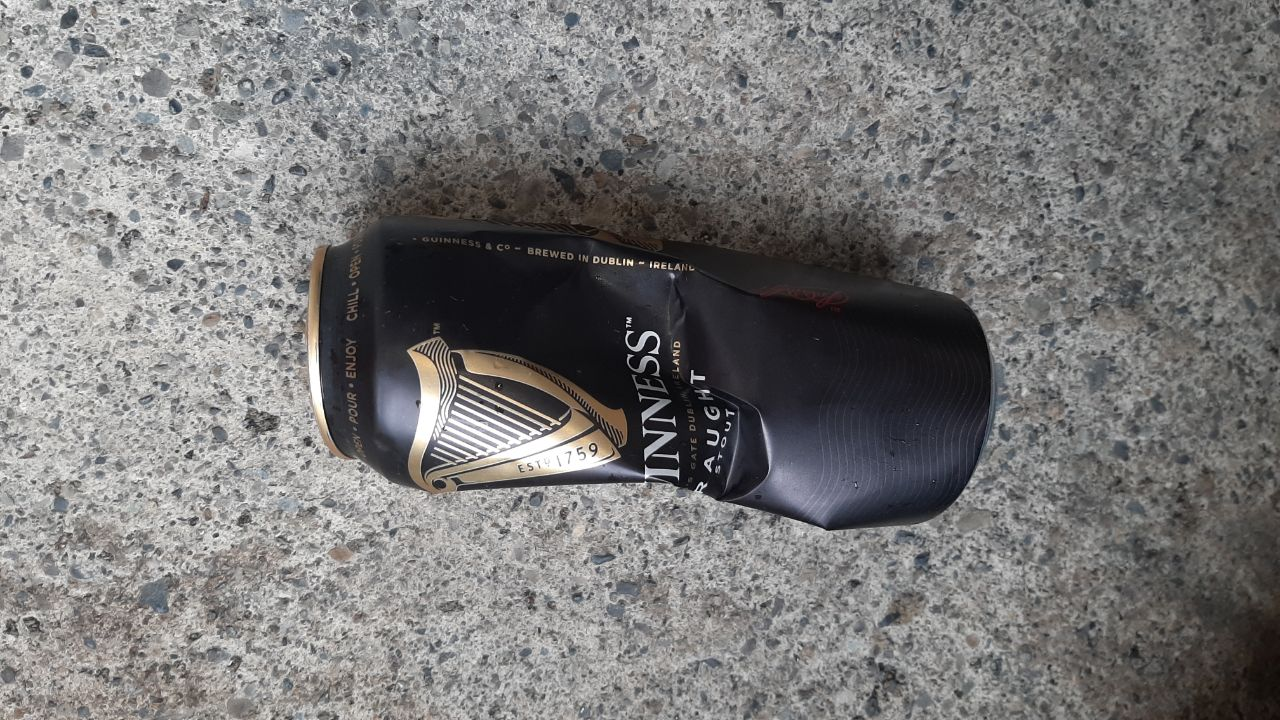Can: (304, 217, 994, 528)
